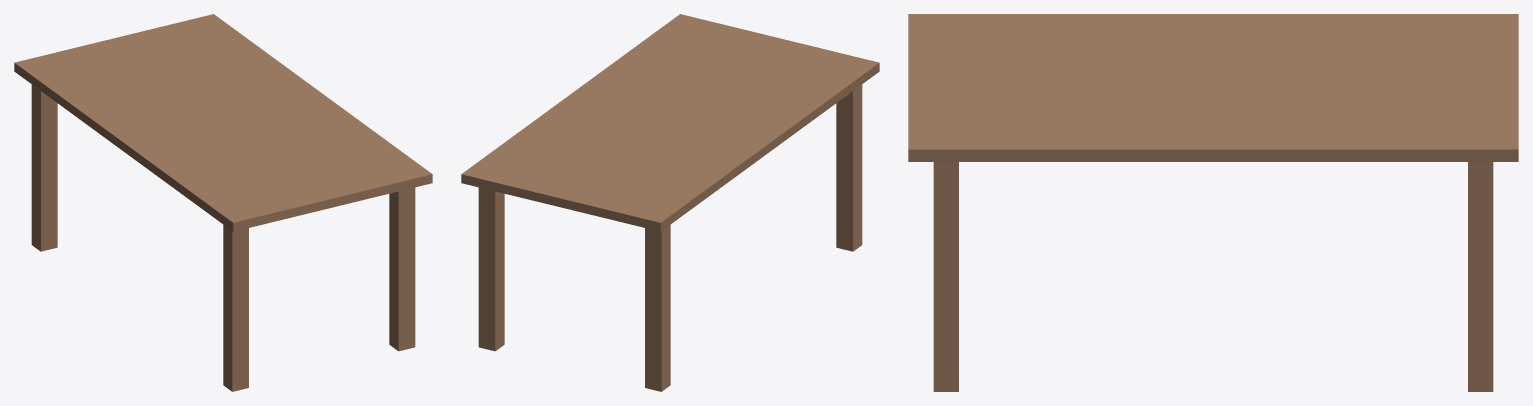
File: table3.fbx
The picture shows the model from 3 angles, left to right: view 1: azimuth 30°, elevation 25°; view 2: azimuth 150°, elevation 25°; view 3: azimuth 270°, elevation 25°; orthographic projection. The views are drawn at different scales.
Parts seen in each view (by area): view 1: Cube; view 2: Cube; view 3: Cube.
Part boxes in pixels (x1,y1,x2,y2): Cube: (14, 14, 432, 391); Cube: (461, 14, 879, 391); Cube: (908, 14, 1518, 391).
Bounding box in the file's own units: 934 × 796 × 1777.
